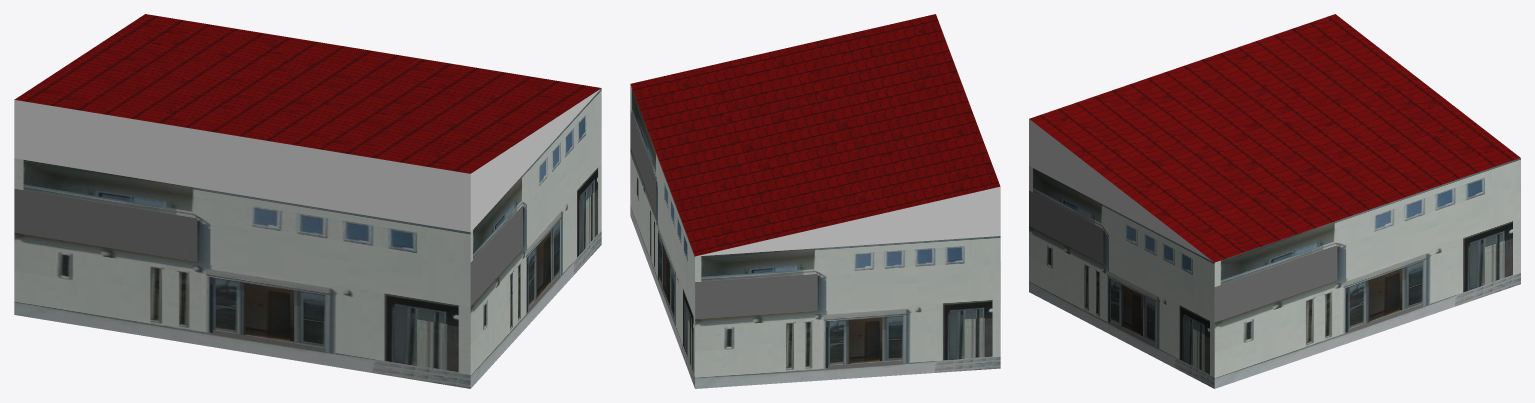
3 views of the same model, side by side, from view 1: azimuth 30°, elevation 25°; view 2: azimuth 150°, elevation 25°; view 3: azimuth 270°, elevation 25° (orthographic). The views are drawn at different scales.
Visible parts, largest first — view 1: CityEngineMaterial_11_m, CityEngineMaterial_17_m, CityEngineMaterial_3_m; view 2: CityEngineMaterial_17_m, CityEngineMaterial_11_m, CityEngineMaterial_3_m; view 3: CityEngineMaterial_17_m, CityEngineMaterial_11_m, CityEngineMaterial_3_m.
Boxes of the visible parts, <box> form: CityEngineMaterial_11_m: <box>14,88,601,388</box>; CityEngineMaterial_17_m: <box>14,14,601,173</box>; CityEngineMaterial_3_m: <box>14,89,600,232</box>; CityEngineMaterial_17_m: <box>630,14,1000,256</box>; CityEngineMaterial_11_m: <box>630,84,1000,388</box>; CityEngineMaterial_3_m: <box>696,186,1000,256</box>; CityEngineMaterial_17_m: <box>1029,14,1520,262</box>; CityEngineMaterial_11_m: <box>1029,158,1520,388</box>; CityEngineMaterial_3_m: <box>1029,119,1212,261</box>.
Bounding box in the file's own units: 20.6 × 8.26 × 21.24.
